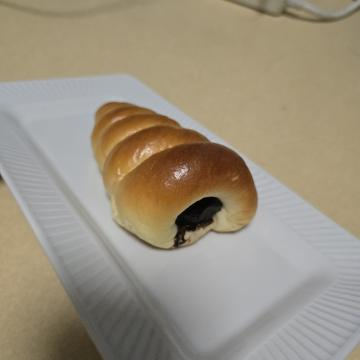cream horn: (81, 91, 272, 283)
